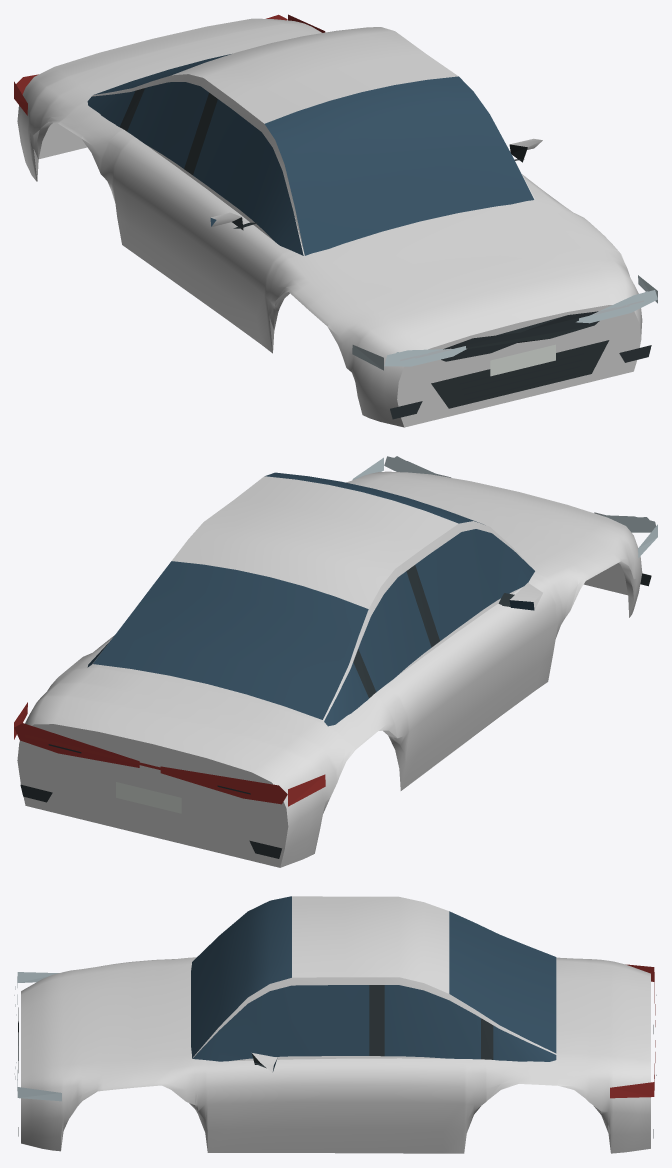
The model's file is veh_k3-lod1.glb.
3 renders of one model, top to bottom at view 1: azimuth 30°, elevation 25°; view 2: azimuth 150°, elevation 25°; view 3: azimuth 270°, elevation 25°, orthographic. The views are drawn at different scales.
Parts seen in each view (by area): view 1: paint, glass, trim, head, plate, tail; view 2: paint, glass, tail, trim, head, plate; view 3: paint, glass, trim, tail, head.
Part boxes in pixels (x1,y1,x2,y2): paint: (17,18,642,427); glass: (87,54,534,255); trim: (120,88,651,419); head: (352,275,657,370); plate: (490,344,555,376); tail: (14,14,325,115); paint: (17,471,642,867); glass: (87,472,534,726); tail: (14,702,325,806); trim: (20,565,651,858); head: (352,456,657,557); plate: (116,782,181,813); paint: (21,896,650,1153); glass: (191,896,556,1071); trim: (18,985,656,1138); tail: (610,964,655,1098); head: (15,972,61,1101).
Bounding box in the file's own units: 1.5 × 0.845 × 2.98.
